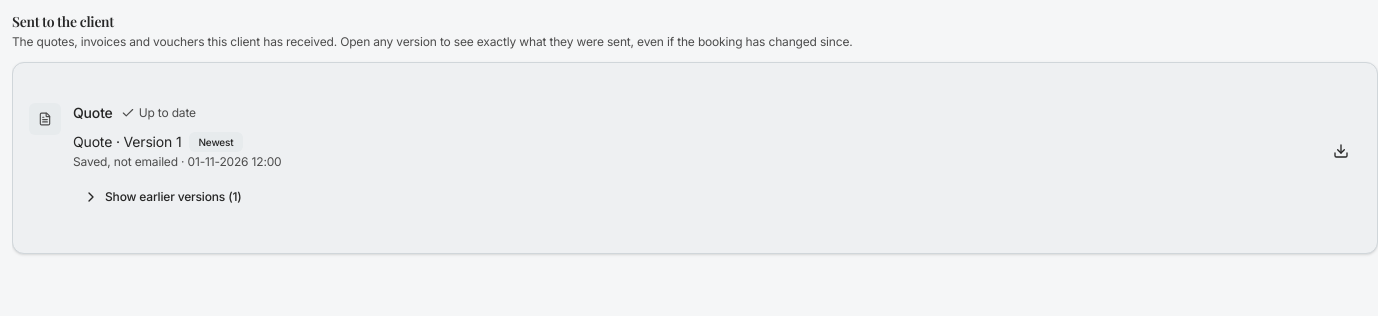
Scenario: IssuedDocumentsSection › a document sent before copies were kept › keeps the entry as an earlier one, under the saved version, when the update was only saved
This screenshot has width=1378, height=316.
Expected: the text "Saved, not emailed · 01-11-2026 12:00" is shown, [73,154,282,170]
Expected: the text "Up to date" is shown, [121,105,196,121]
Click the button "Show earlier versions (1)": (162, 197) [73,183,252,211]
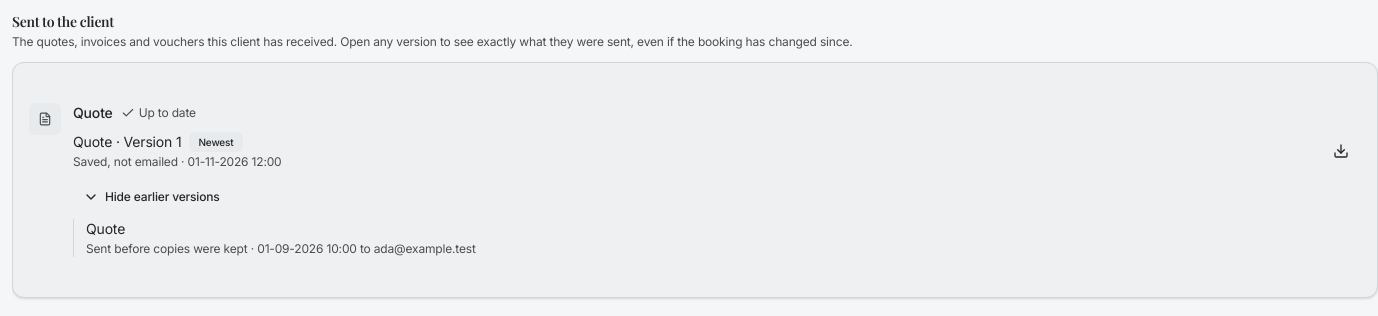
Expected: the number of buttons named "Download" is 1, [1321,131,1361,171]
Expected: the text "Sent before copies were kept . " shows "ada@example.test", [86,241,476,256]
